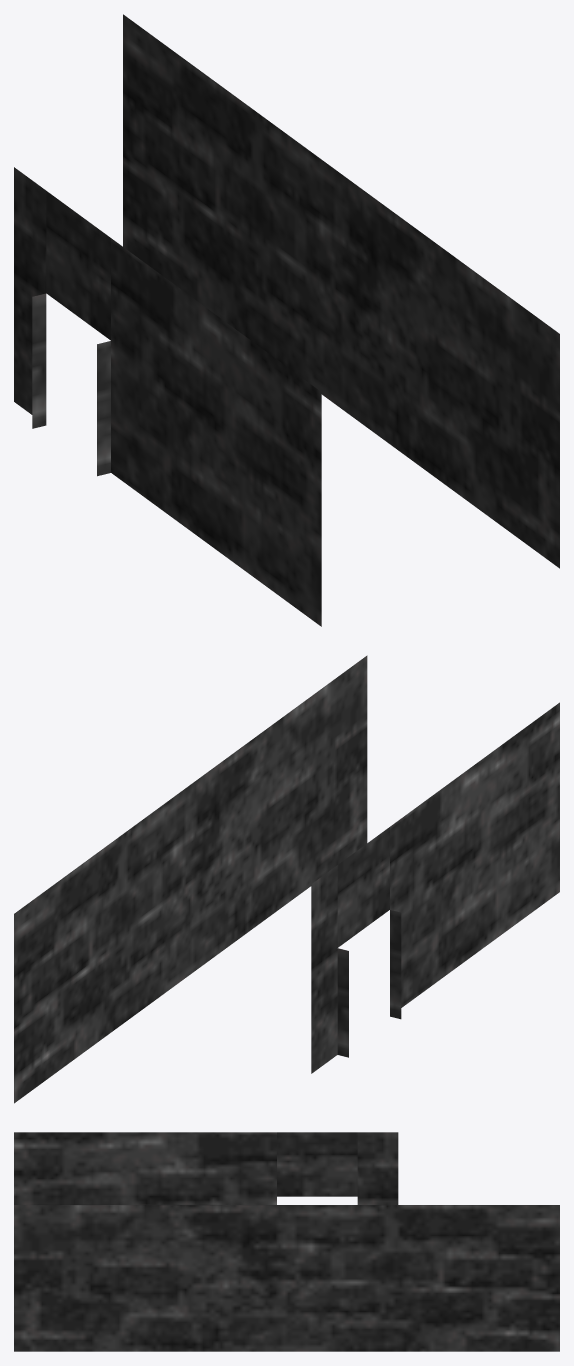
File: BRKGRY17_1-1.fbx
The picture shows the model from 3 angles, top to bottom: view 1: azimuth 30°, elevation 25°; view 2: azimuth 150°, elevation 25°; view 3: azimuth 270°, elevation 25°; orthographic projection. The views are drawn at different scales.
Parts seen in each view (by area): view 1: BRKGRY17_1; view 2: BRKGRY17_1; view 3: BRKGRY17_1.
Part boxes in pixels (x1,y1,x2,y2): BRKGRY17_1: [14, 14, 559, 626]; BRKGRY17_1: [14, 655, 559, 1103]; BRKGRY17_1: [14, 1132, 559, 1351].
Bounding box in the file's own units: 288 × 256 × 864.
1 material, 1 textured.
